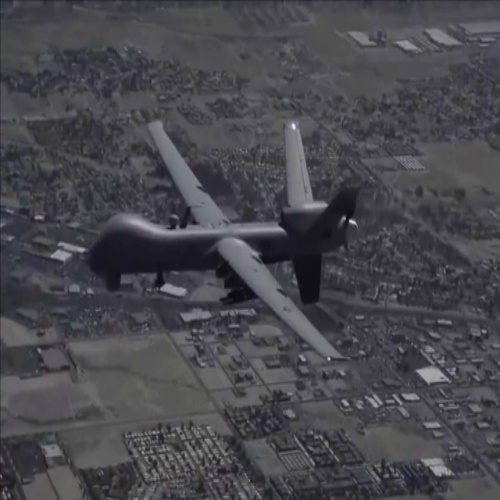uav892: (80, 119, 366, 364)
